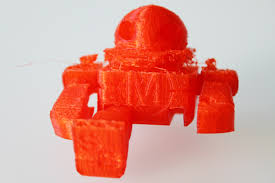fail: (160, 44, 225, 77), (72, 46, 131, 71)
